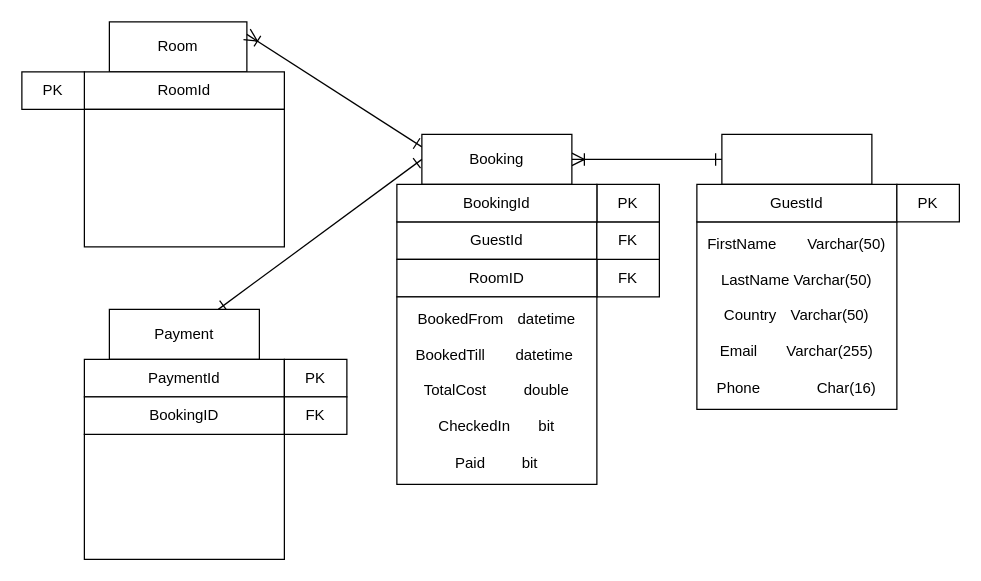
Image size: 981x581. Some labels were removed from this diagram. The box of each missing label's shape, as (x1, y1, x2, y2) in pixels:
Guest: (721, 133, 872, 184)
PaymentDate (nullable datetime) PaymentMethod varchar (50) nullable: (83, 433, 284, 559)
RoomType Varchar (50) ExtraBeds bit PricePerNight Double Availability bit: (83, 108, 284, 247)
